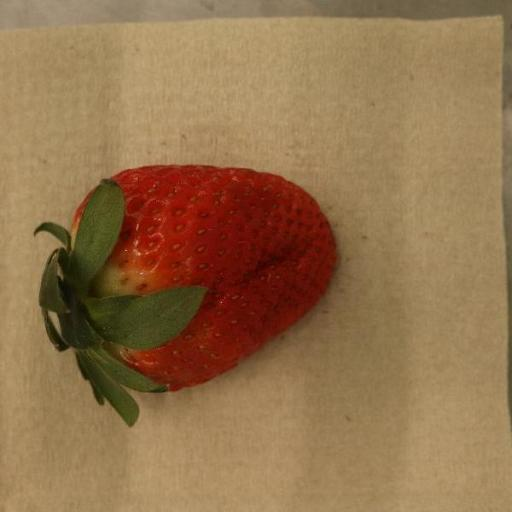Strawberry: (33, 165, 337, 429)
